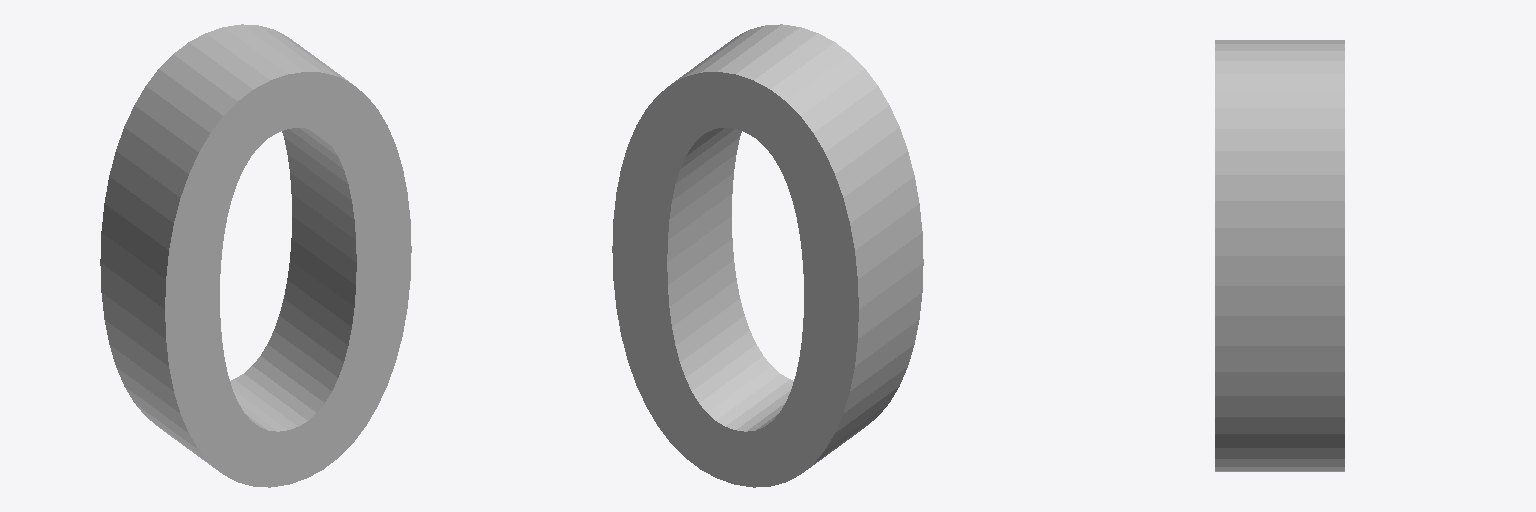
Rendered from zeroNoHyph.obj.
The picture shows the model from 3 angles: view 1: azimuth 30°, elevation 25°; view 2: azimuth 150°, elevation 25°; view 3: azimuth 270°, elevation 25°; orthographic projection.
Visible parts, largest first — view 1: Blue_Team__Text; view 2: Blue_Team__Text; view 3: Blue_Team__Text.
Boxes of the visible parts, x1,y1,x2,y2 form: Blue_Team__Text: [100, 24, 411, 487]; Blue_Team__Text: [612, 24, 923, 487]; Blue_Team__Text: [1215, 40, 1344, 471].
Size of the model in its own units: 0.44 by 0.7 by 0.2.